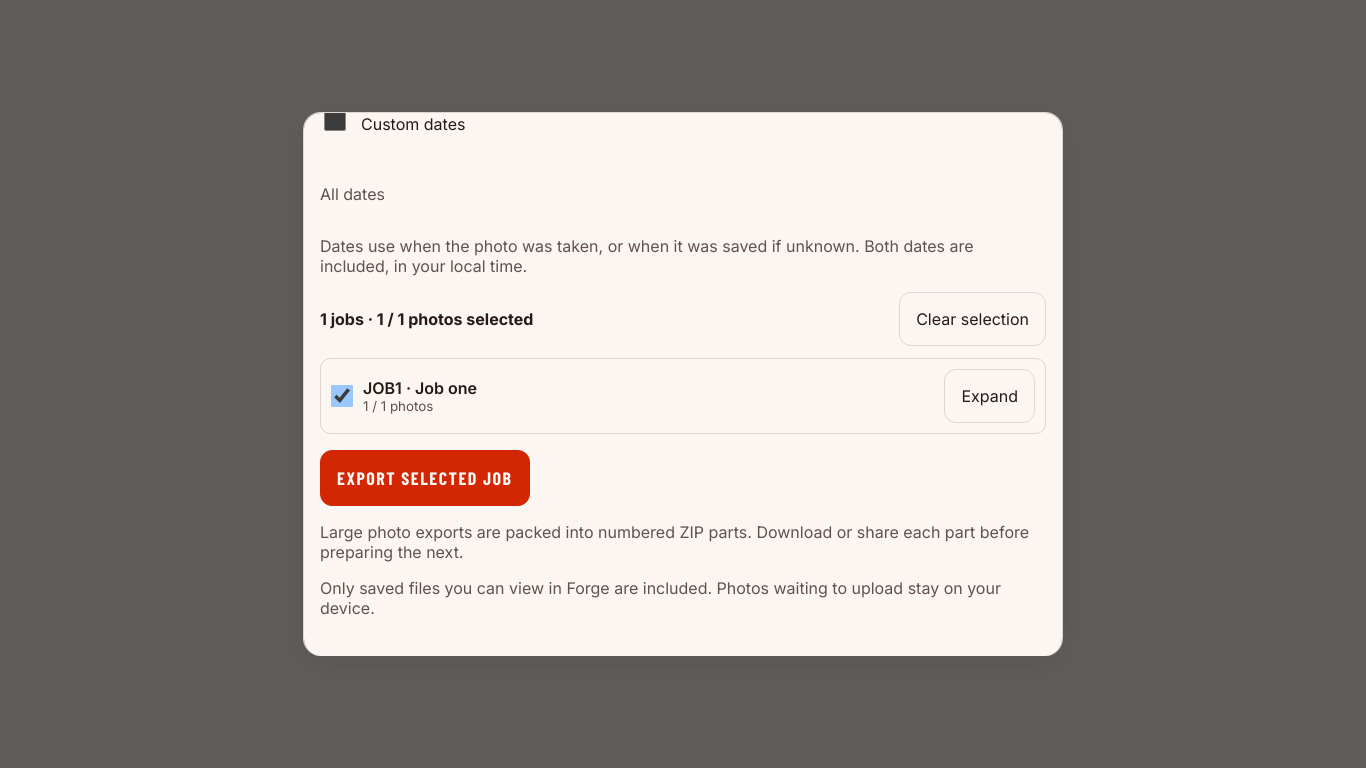
Test: reports failed later ZIP photos and resumes remaining photos in the same session
(page scrolled)
Click the button "Export selected job". click: point(425, 478)
box: [320,450,530,506]
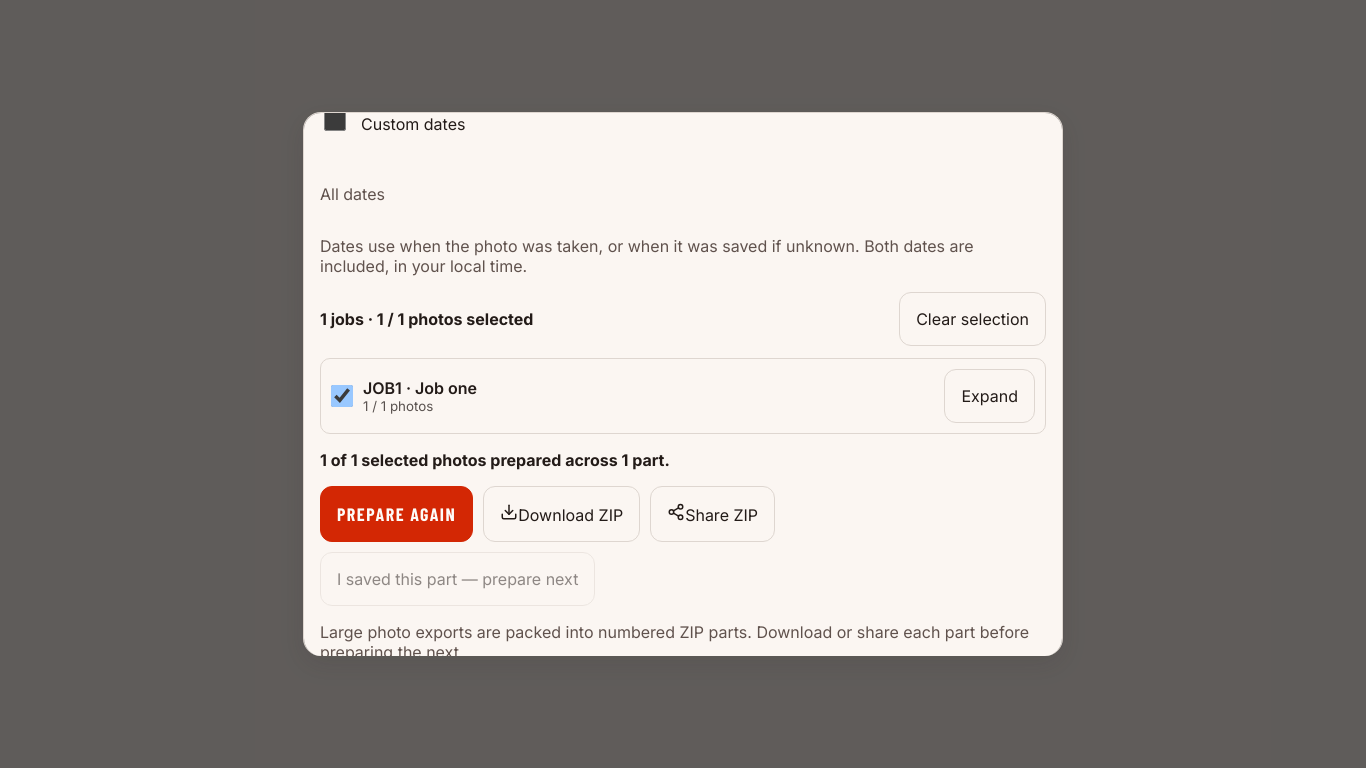
Click the button "Download ZIP". click: point(562, 514)
box: [483,486,640,542]
(page scrolled)
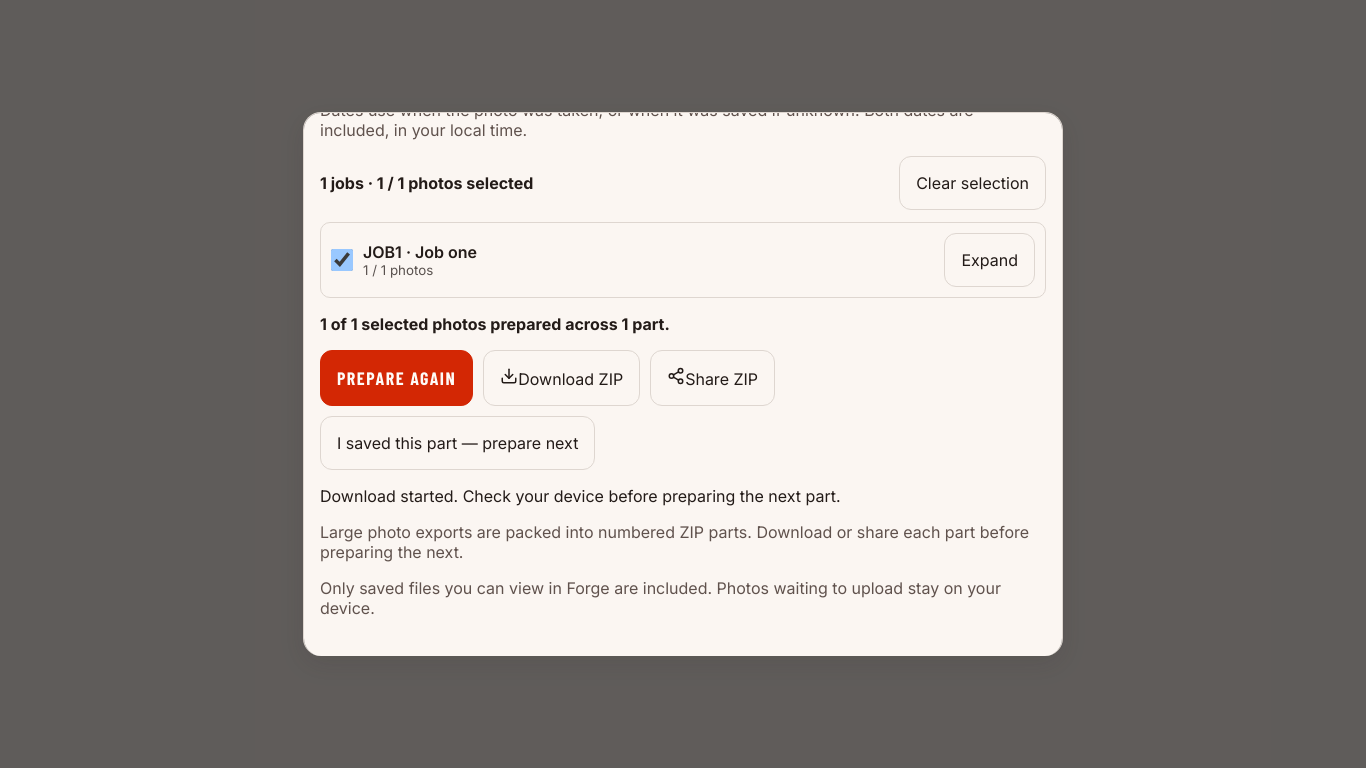
Click the button "I saved this part — prepare next". click: point(458, 443)
box: [320,416,595,470]
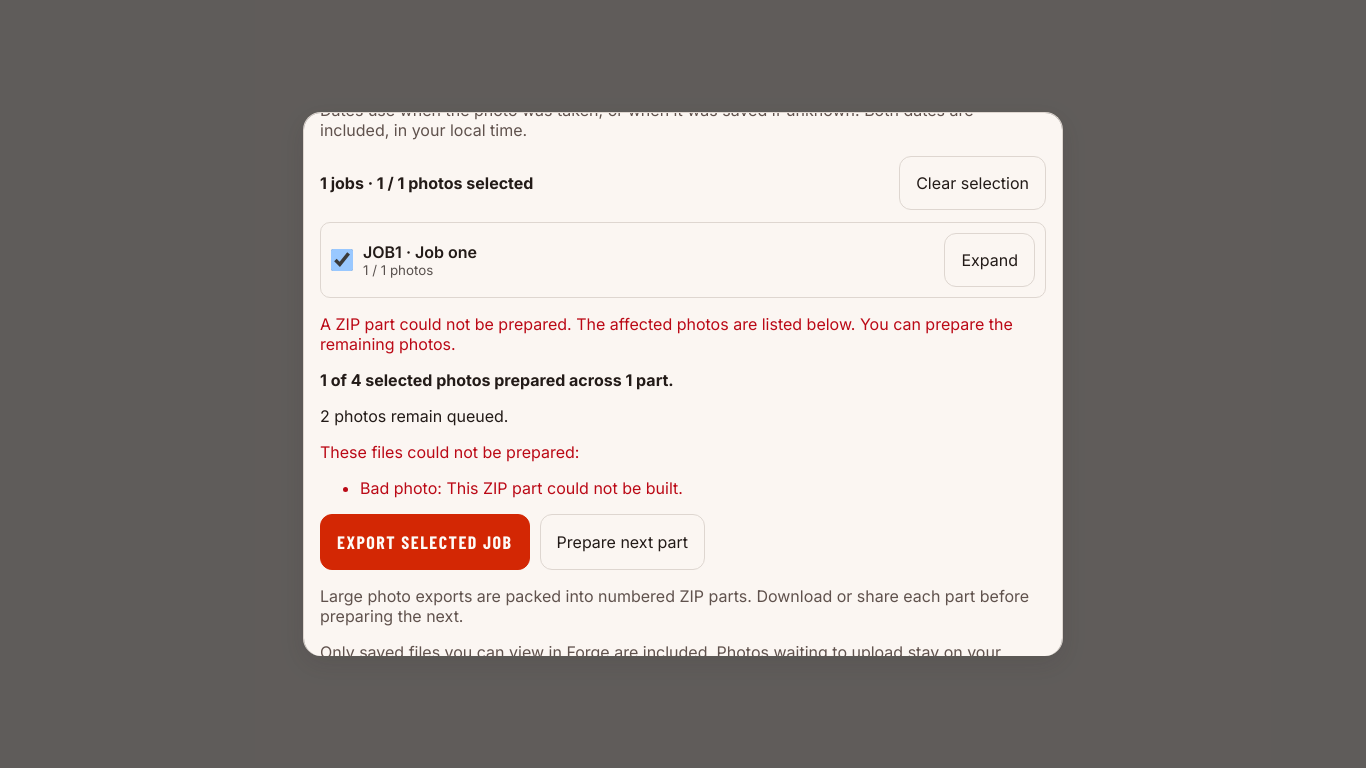
Check: the text "1 of 4 selected photos prepared" is shown, box [320,370,674,390]
Check: the text "2 photos remain queued" is shown, box [320,406,508,426]
Check: the text "Bad photo: This ZIP part could not be built." is shown, box [360,478,683,498]
Click the button "Prepare next part". click: point(622, 542)
box: [540,514,705,570]
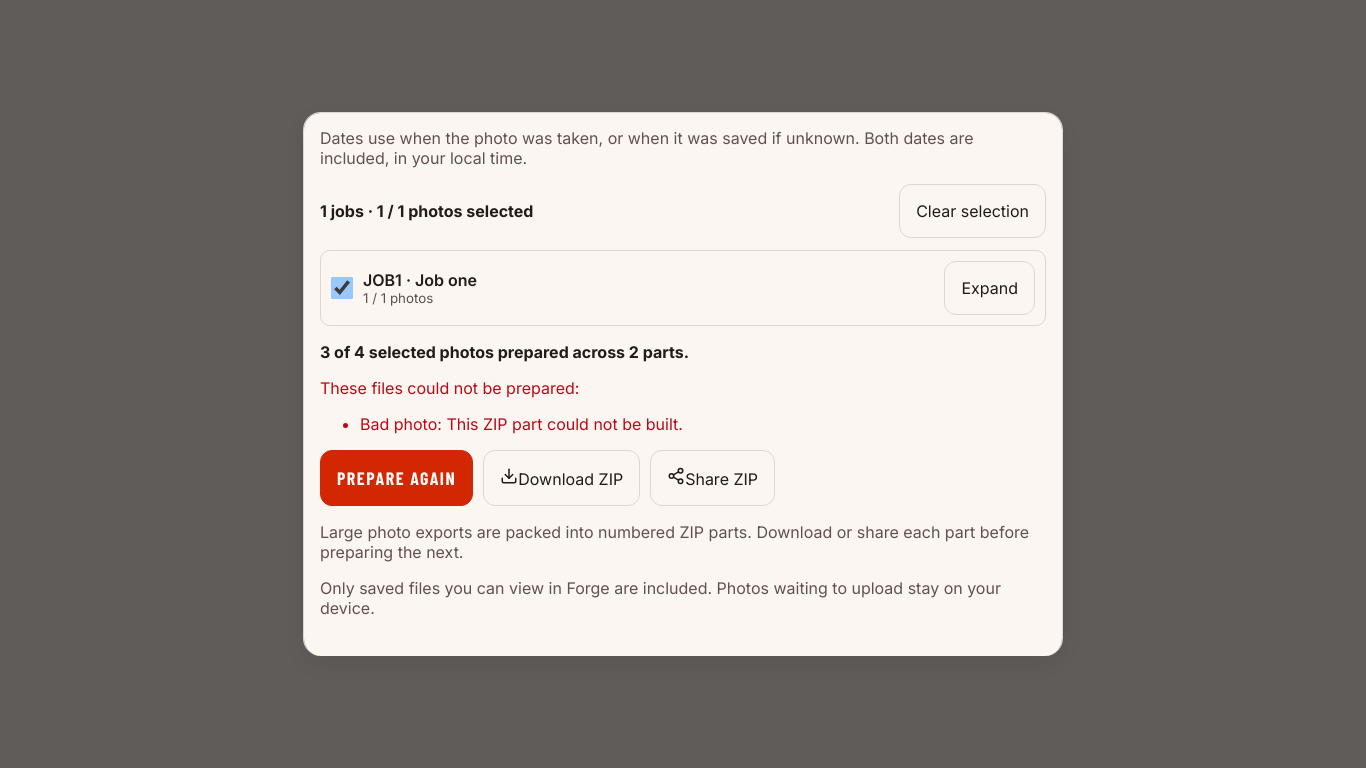
Check: the text "3 of 4 selected photos prepared" is shown, box [320,342,689,362]
Check: the text "photos remain queued" is gone
